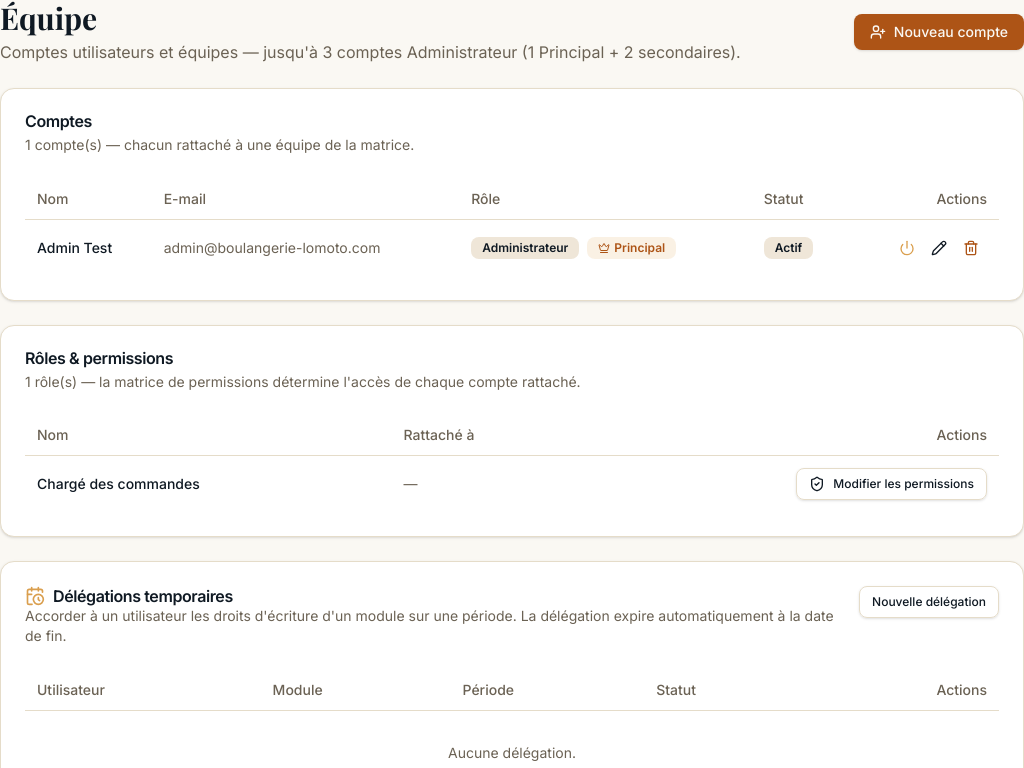
Test: EquipePage — éditeur de permissions d'un rôle (écart livre technique comblé) › pré-remplit l'éditeur avec l'état actuel renvoyé par GET /api/roles
The width and height of the screenshot is (1024, 768).
What coordinates should you click on to do the following:
click the button "Modifier les permissions"
I would click on:
 (892, 484)
Its box is [796,468,987,500].
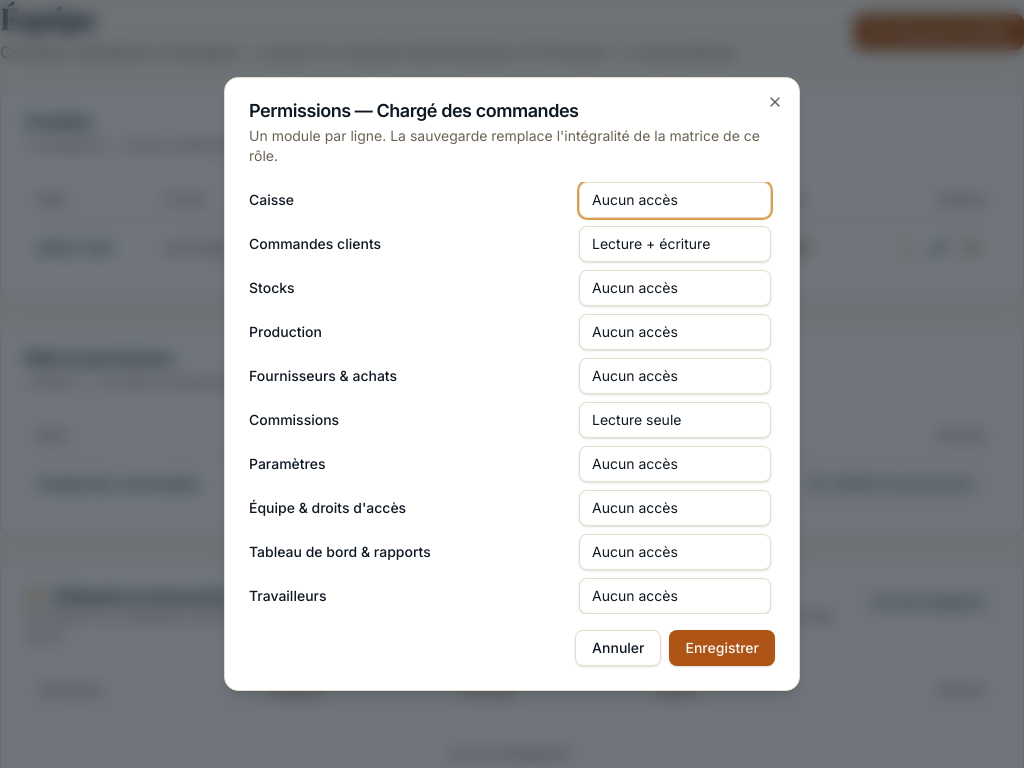
Result: the dropdown labelled "Commandes clients" shows "Lecture + écriture" at [579,226,771,262]
Result: the dropdown labelled "Commissions" shows "Lecture seule" at [579,402,771,438]
Result: the dropdown labelled "Caisse" shows "Aucun accès" at [579,182,771,218]
